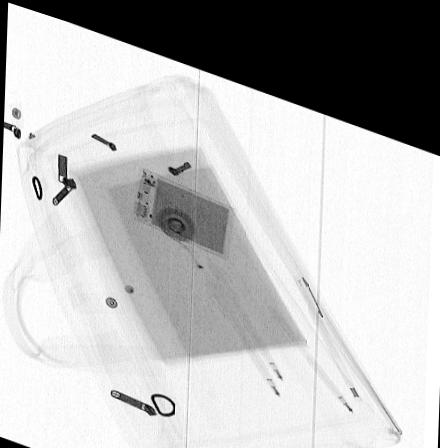Powerbank: (132, 156, 238, 245)
